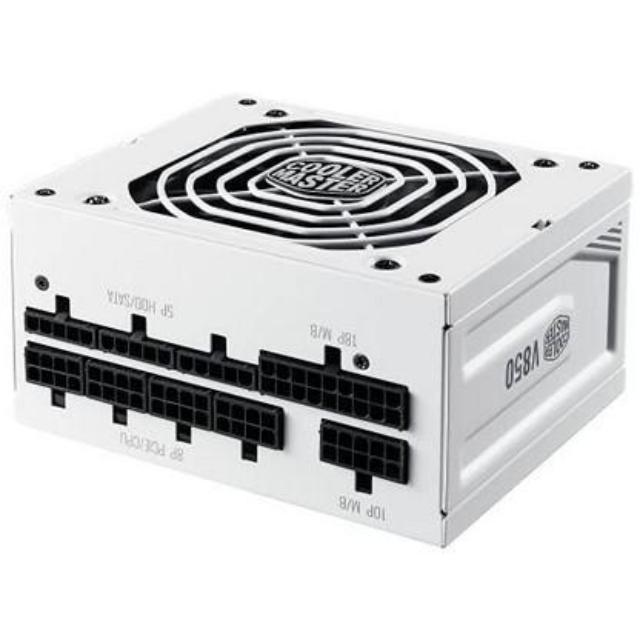PSU: (0, 74, 640, 552)
